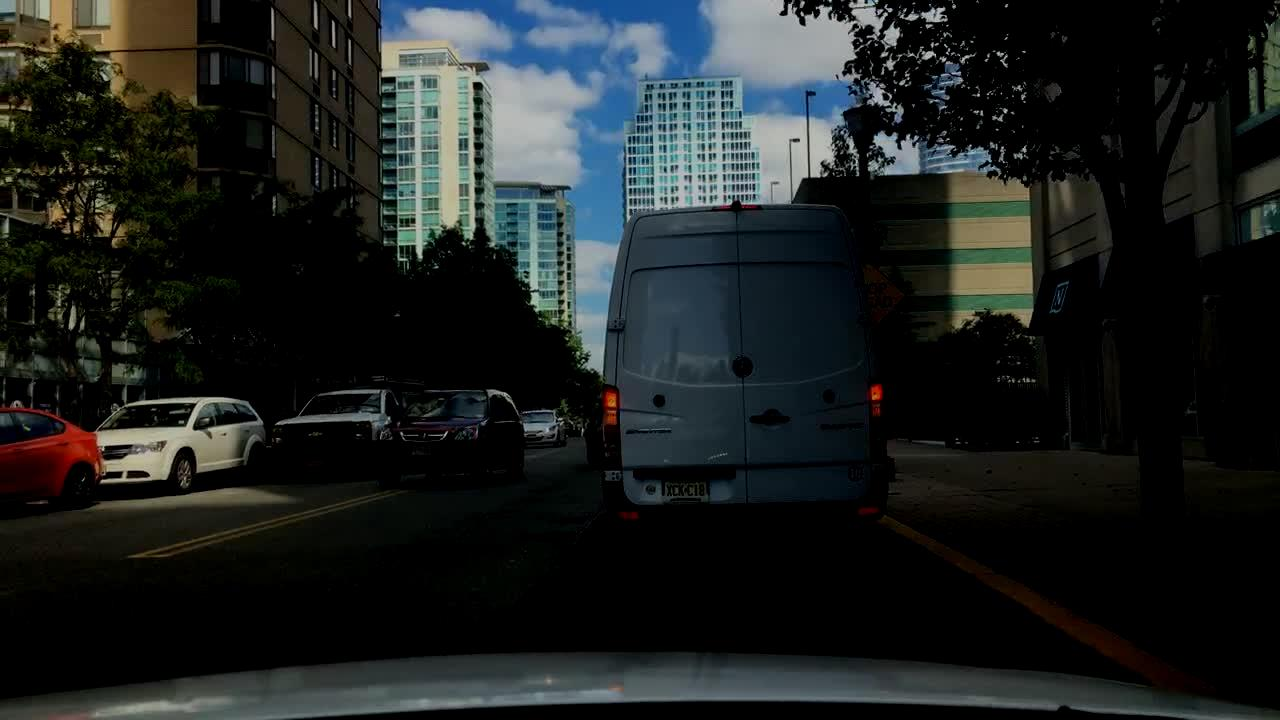Honda: (416, 430, 428, 444)
Mercedes: (731, 353, 754, 379)
chevrolet: (306, 428, 328, 442)
